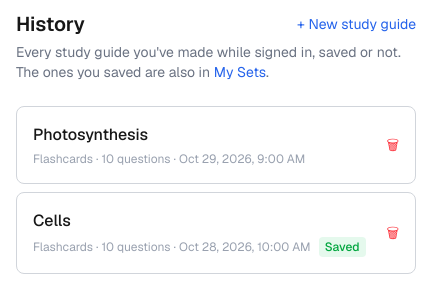
Test: History page › removes a guide after asking, saying whether it was saved
The image size is (433, 291).
Click the button named "Remove Photosynthesis from history" at (393, 145), box [386,135,399,155]
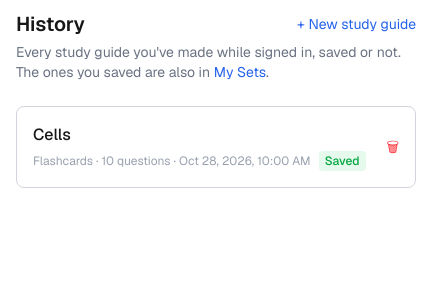
Check: the link "Photosynthesis" is gone
Click the button named "Remove Cells from history" at (393, 147), box [386,137,399,157]
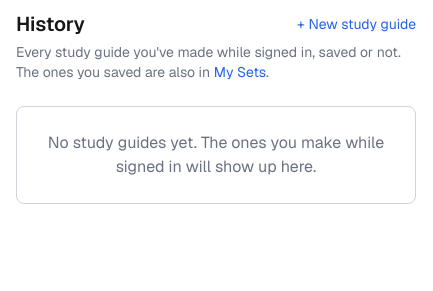
Check: the link "Cells" is gone
